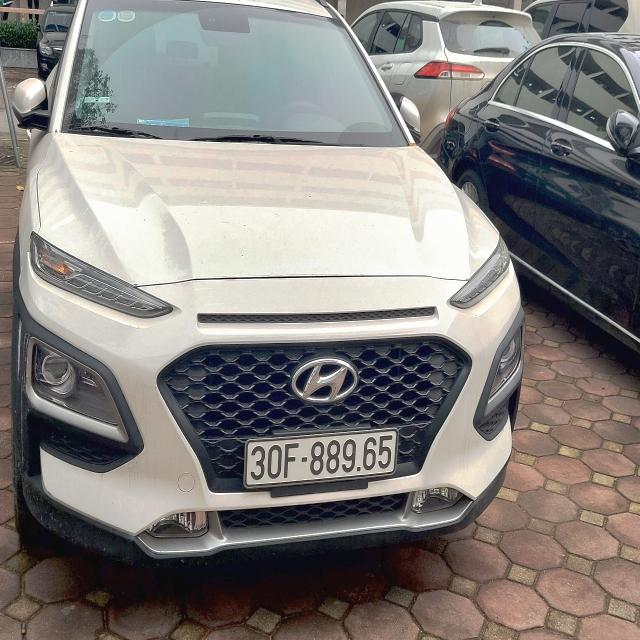license_plate: (246, 429, 404, 489)
